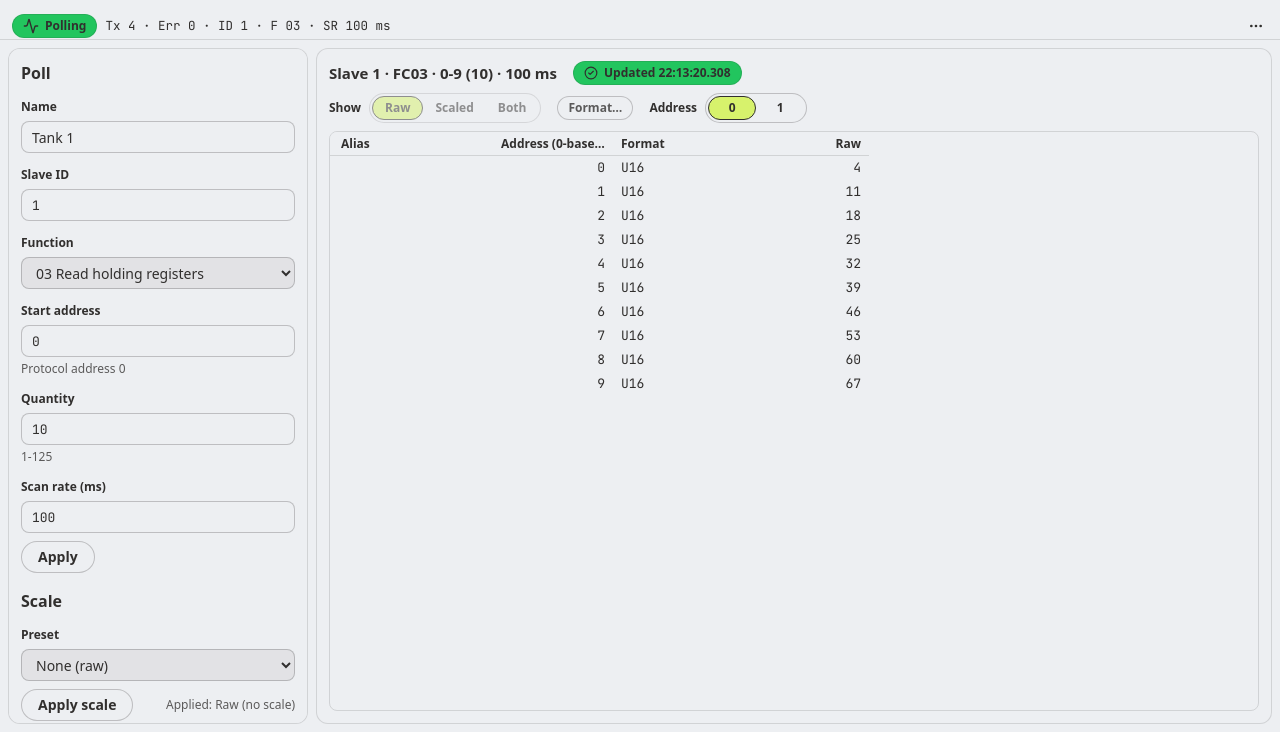
the scale section in the workspace host › selecting 4-20 mA fills mA, 2 decimals, and Y 4 and 20 read-only with the hint (C9)
Select "4-20 mA" in the dropdown labelled "Preset" at (158, 665), box [21,649,295,681]
(page scrolled)
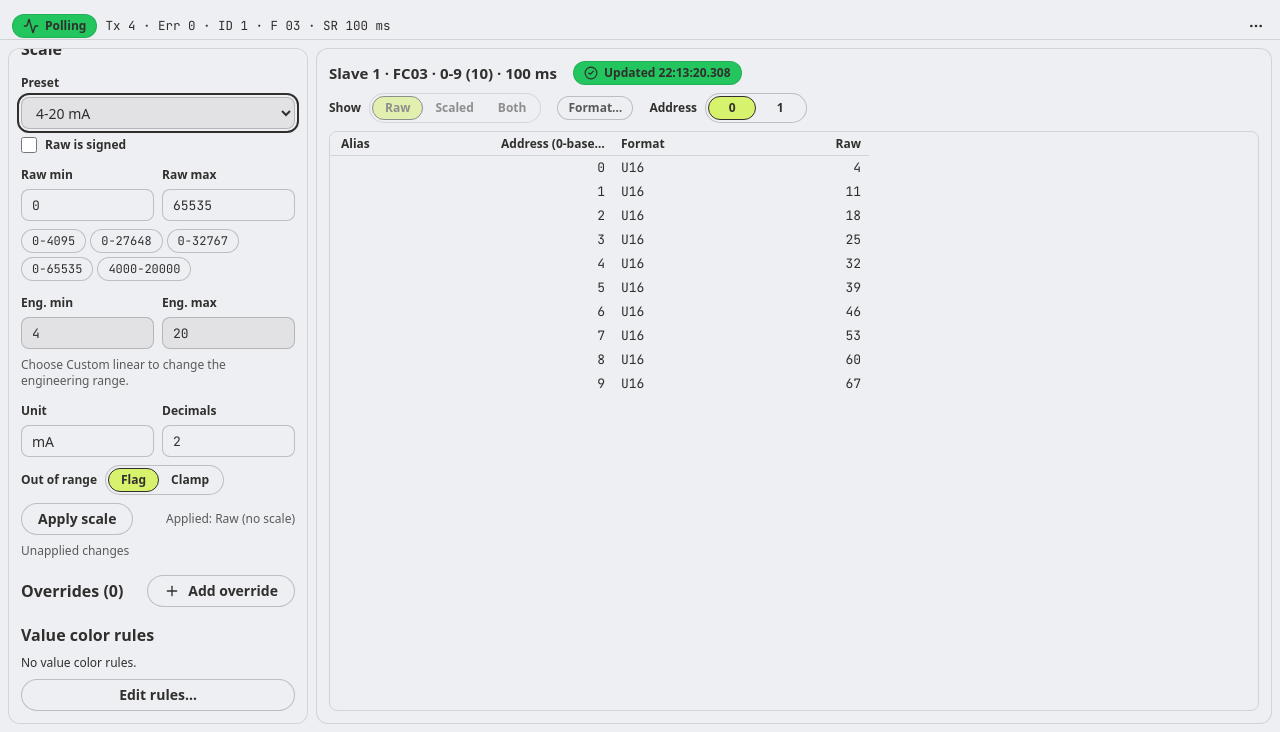
Expected: the field labelled "Unit" holds "mA", [21,425,154,457]
Expected: the field labelled "Decimals" holds "2", [162,425,295,457]
Expected: the field labelled "Eng. min" holds "4", [21,317,154,349]
